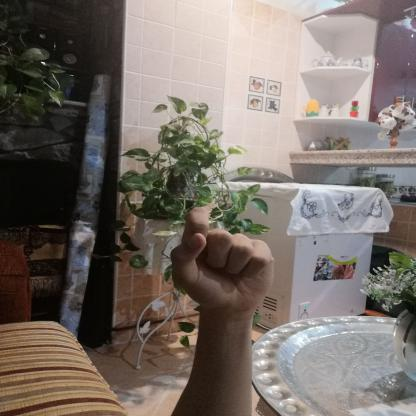FAA: (155, 201, 289, 323)
